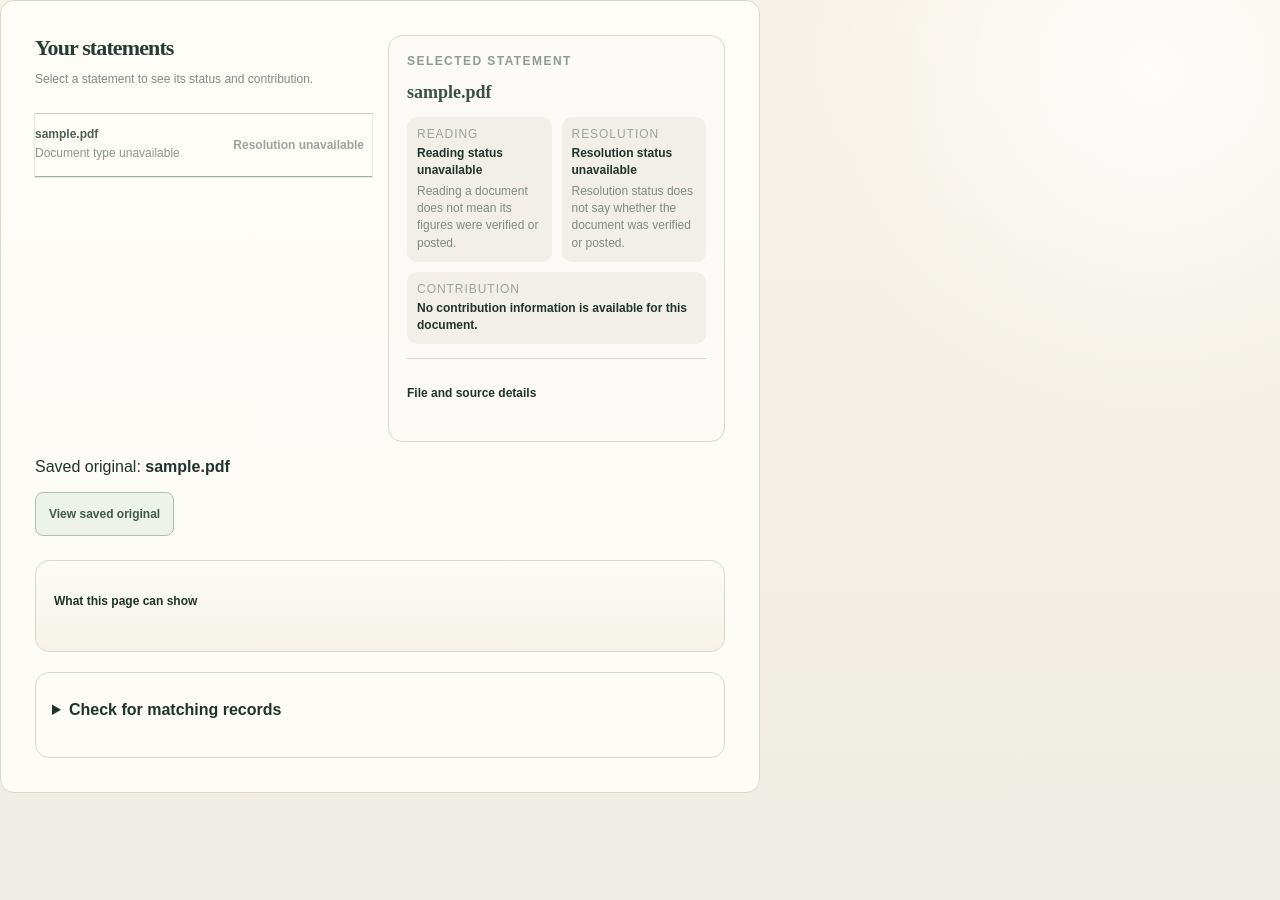
it: import journey and result › places record matching after the library behind an expandable control
The image size is (1280, 900).
Click the heading "Check for matching records": (175, 709) left=69, top=701, right=281, bottom=718
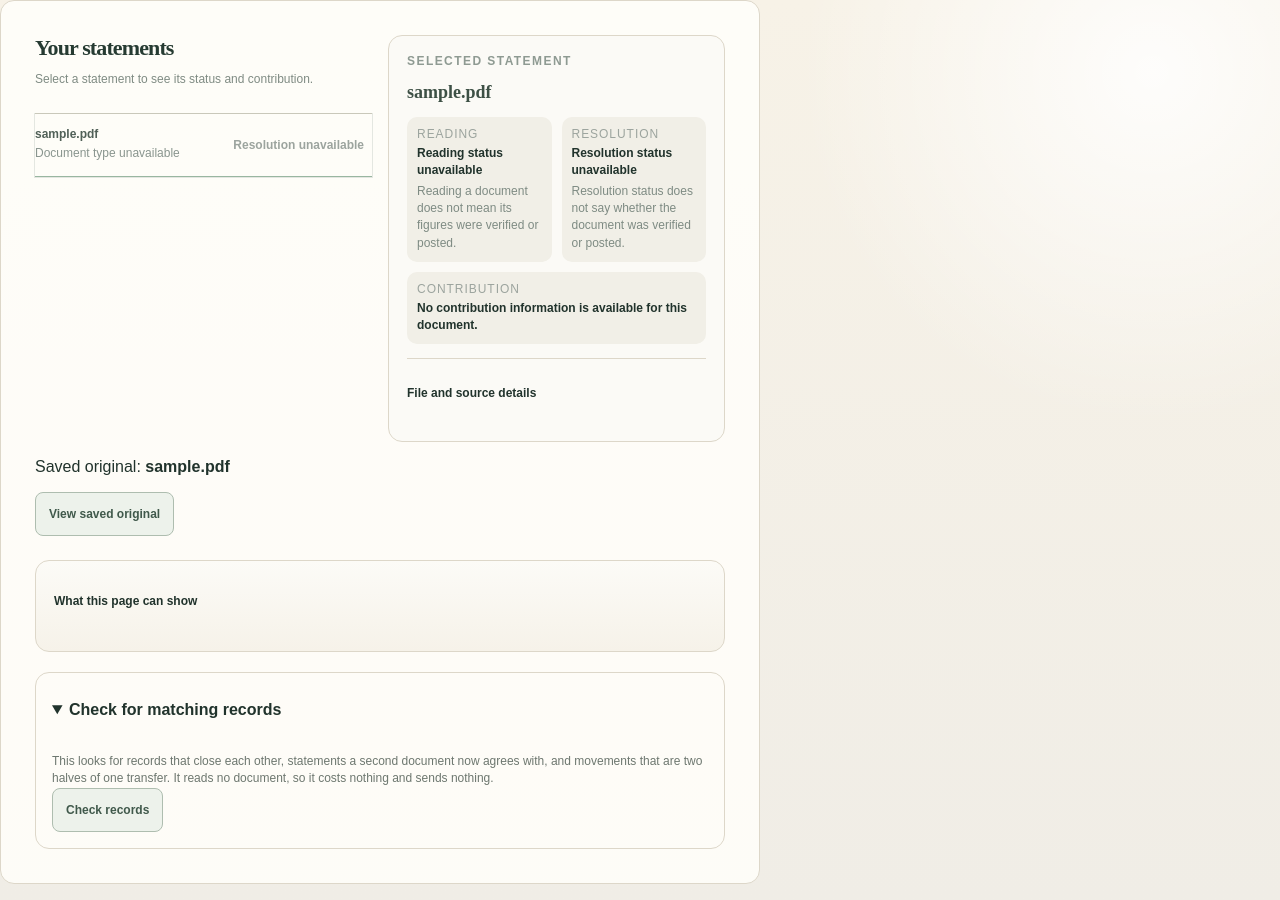
Result: the button "Check records" is shown at left=52, top=788, right=163, bottom=832
